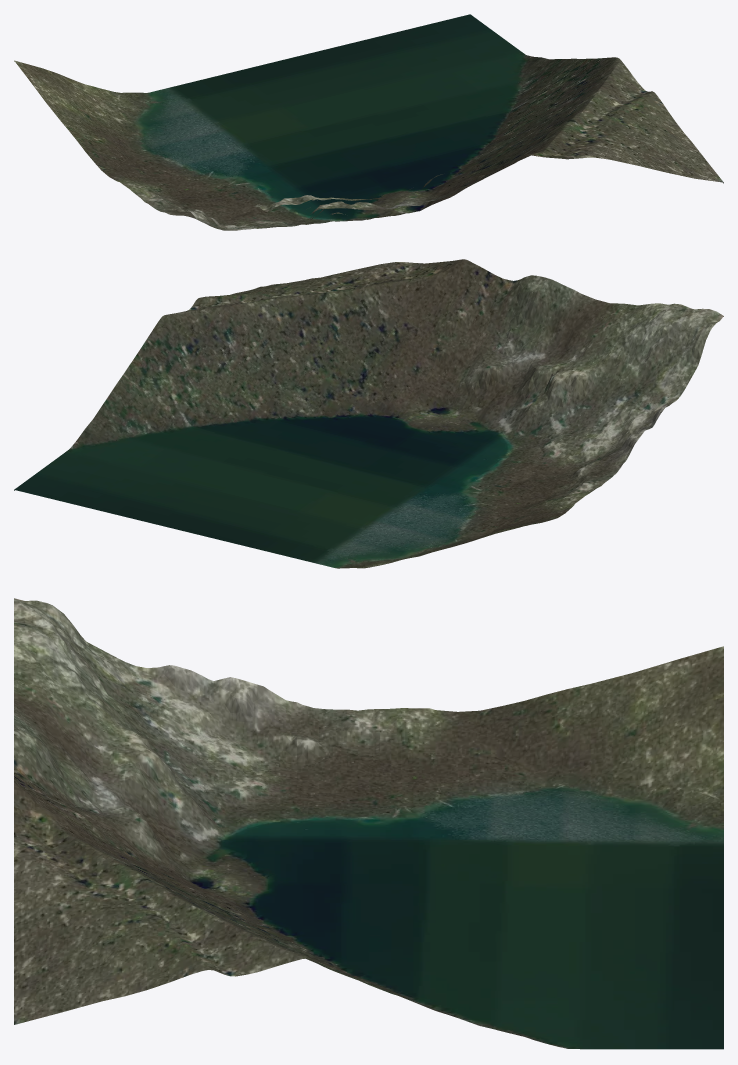
3 renders of one model, top to bottom at view 1: azimuth 30°, elevation 25°; view 2: azimuth 150°, elevation 25°; view 3: azimuth 270°, elevation 25°, orthographic. The views are drawn at different scales.
Bounding box in the file's own units: 1000 × 218 × 963.
Materials: 1 (1 with a texture image).
